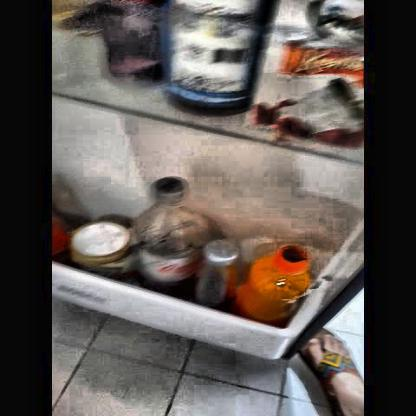heavy_cream: (263, 4, 366, 132)
